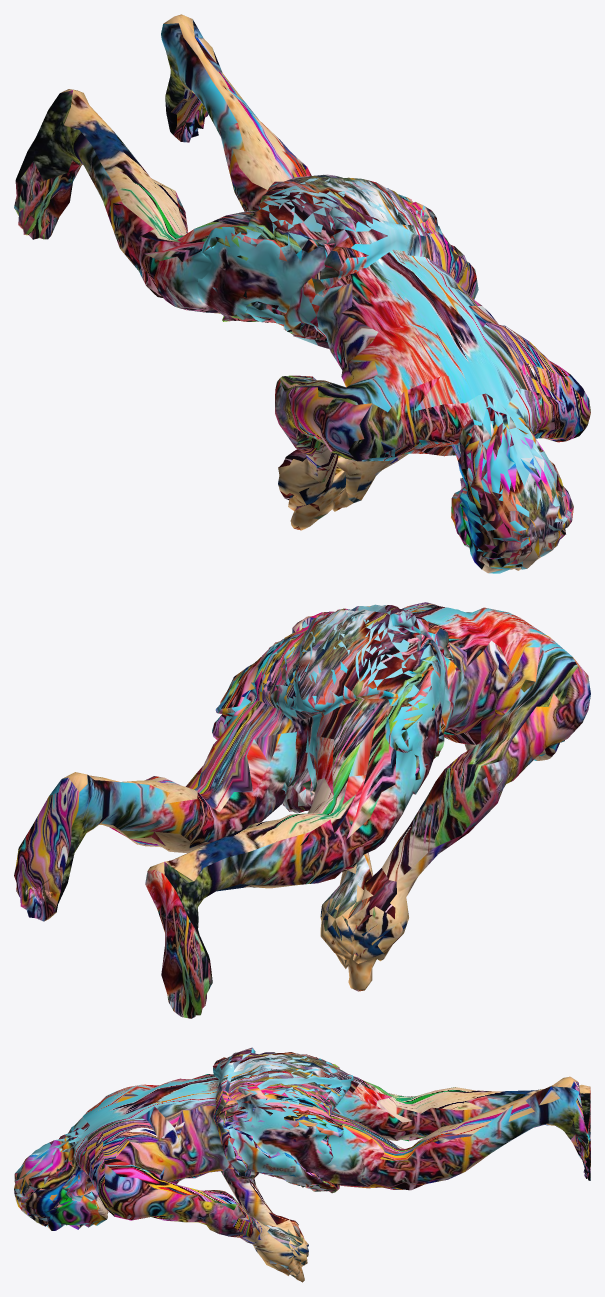
File: tds_homo-heidelbergensis-model.glb
3 views of the same model, one above another, from view 1: azimuth 30°, elevation 25°; view 2: azimuth 150°, elevation 25°; view 3: azimuth 270°, elevation 25° (orthographic). The views are drawn at different scales.
Visible parts, largest first — view 1: A; view 2: A; view 3: A.
Part boxes in pixels (box(x1,y1,x2,y2)): A: box(14, 14, 590, 573); A: box(14, 602, 590, 1018); A: box(14, 1047, 590, 1282).
Size of the model in its own units: 0.6678 by 0.8924 by 2.
Materials: 1 (1 with a texture image).
